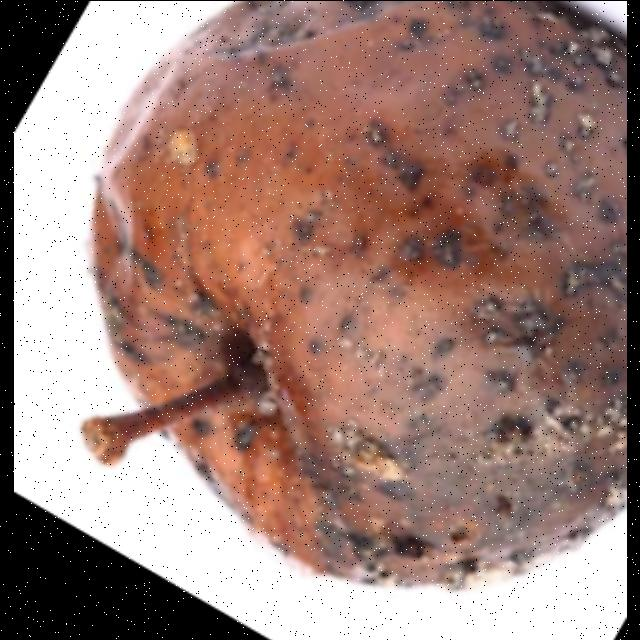Apel Tidak Segar: (42, 1, 626, 612)
